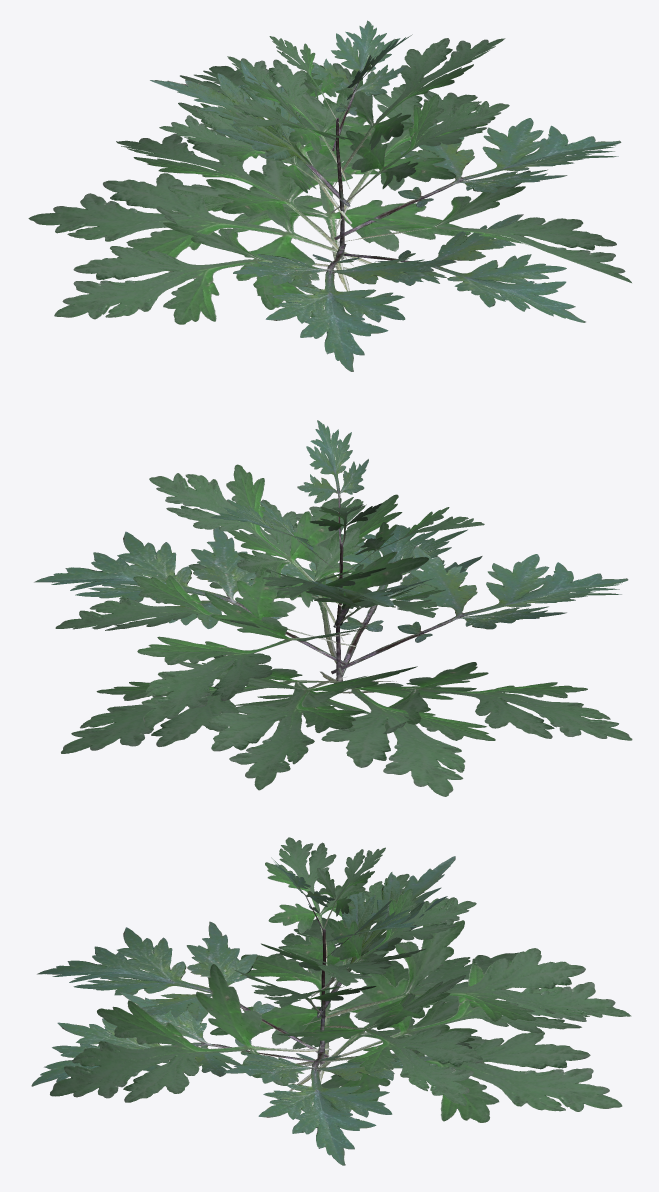
File: Korean Mugwort_Type 03.fbx
3 renders of one model, top to bottom at view 1: azimuth 30°, elevation 25°; view 2: azimuth 150°, elevation 25°; view 3: azimuth 270°, elevation 25°, orthographic. The views are drawn at different scales.
Parts seen in each view (by area): view 1: Korean Mugwort_Type 03; view 2: Korean Mugwort_Type 03; view 3: Korean Mugwort_Type 03.
Boxes of the visible parts, left/top/right/bottom form: Korean Mugwort_Type 03: left=28, top=20, right=631, bottom=371; Korean Mugwort_Type 03: left=34, top=420, right=632, bottom=796; Korean Mugwort_Type 03: left=31, top=837, right=631, bottom=1165.
Bounding box in the file's own units: 39.02 × 15.46 × 36.38.
